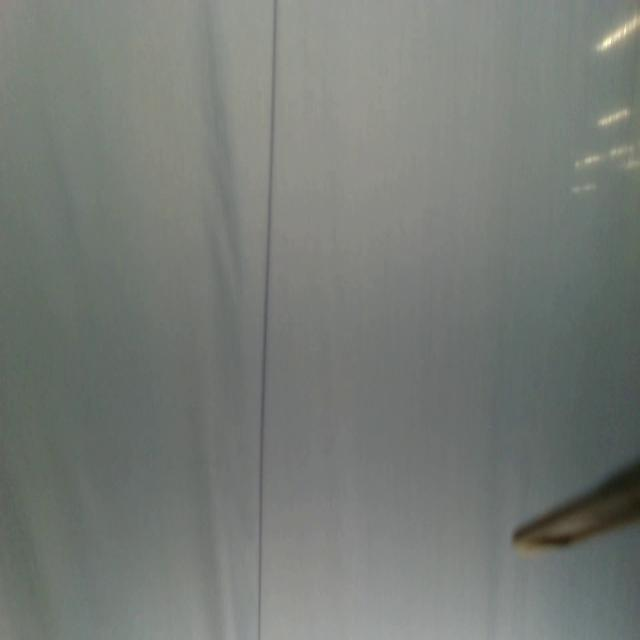crease: (255, 1, 281, 640)
